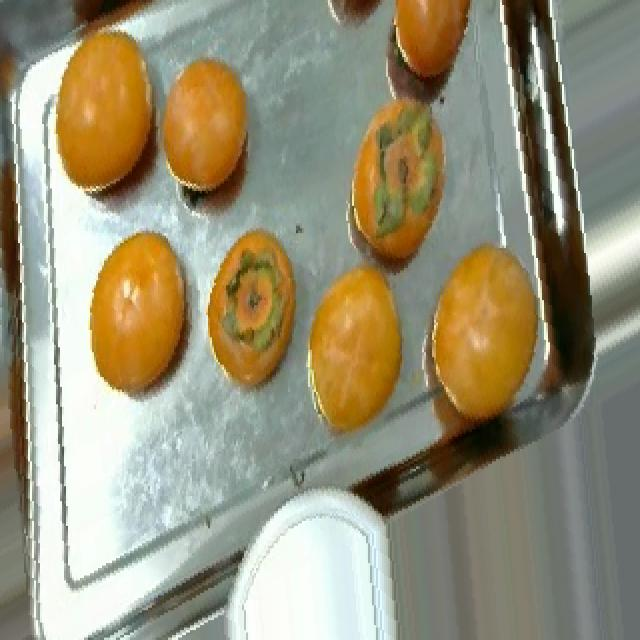Fruit: (294, 241, 434, 459), (412, 221, 546, 444), (76, 208, 206, 427), (336, 80, 470, 276), (148, 39, 270, 230), (198, 211, 304, 412), (310, 0, 396, 42)
